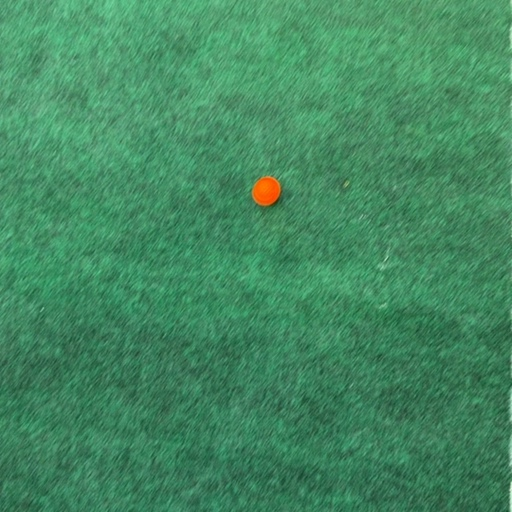Ball: (252, 177, 280, 206)
